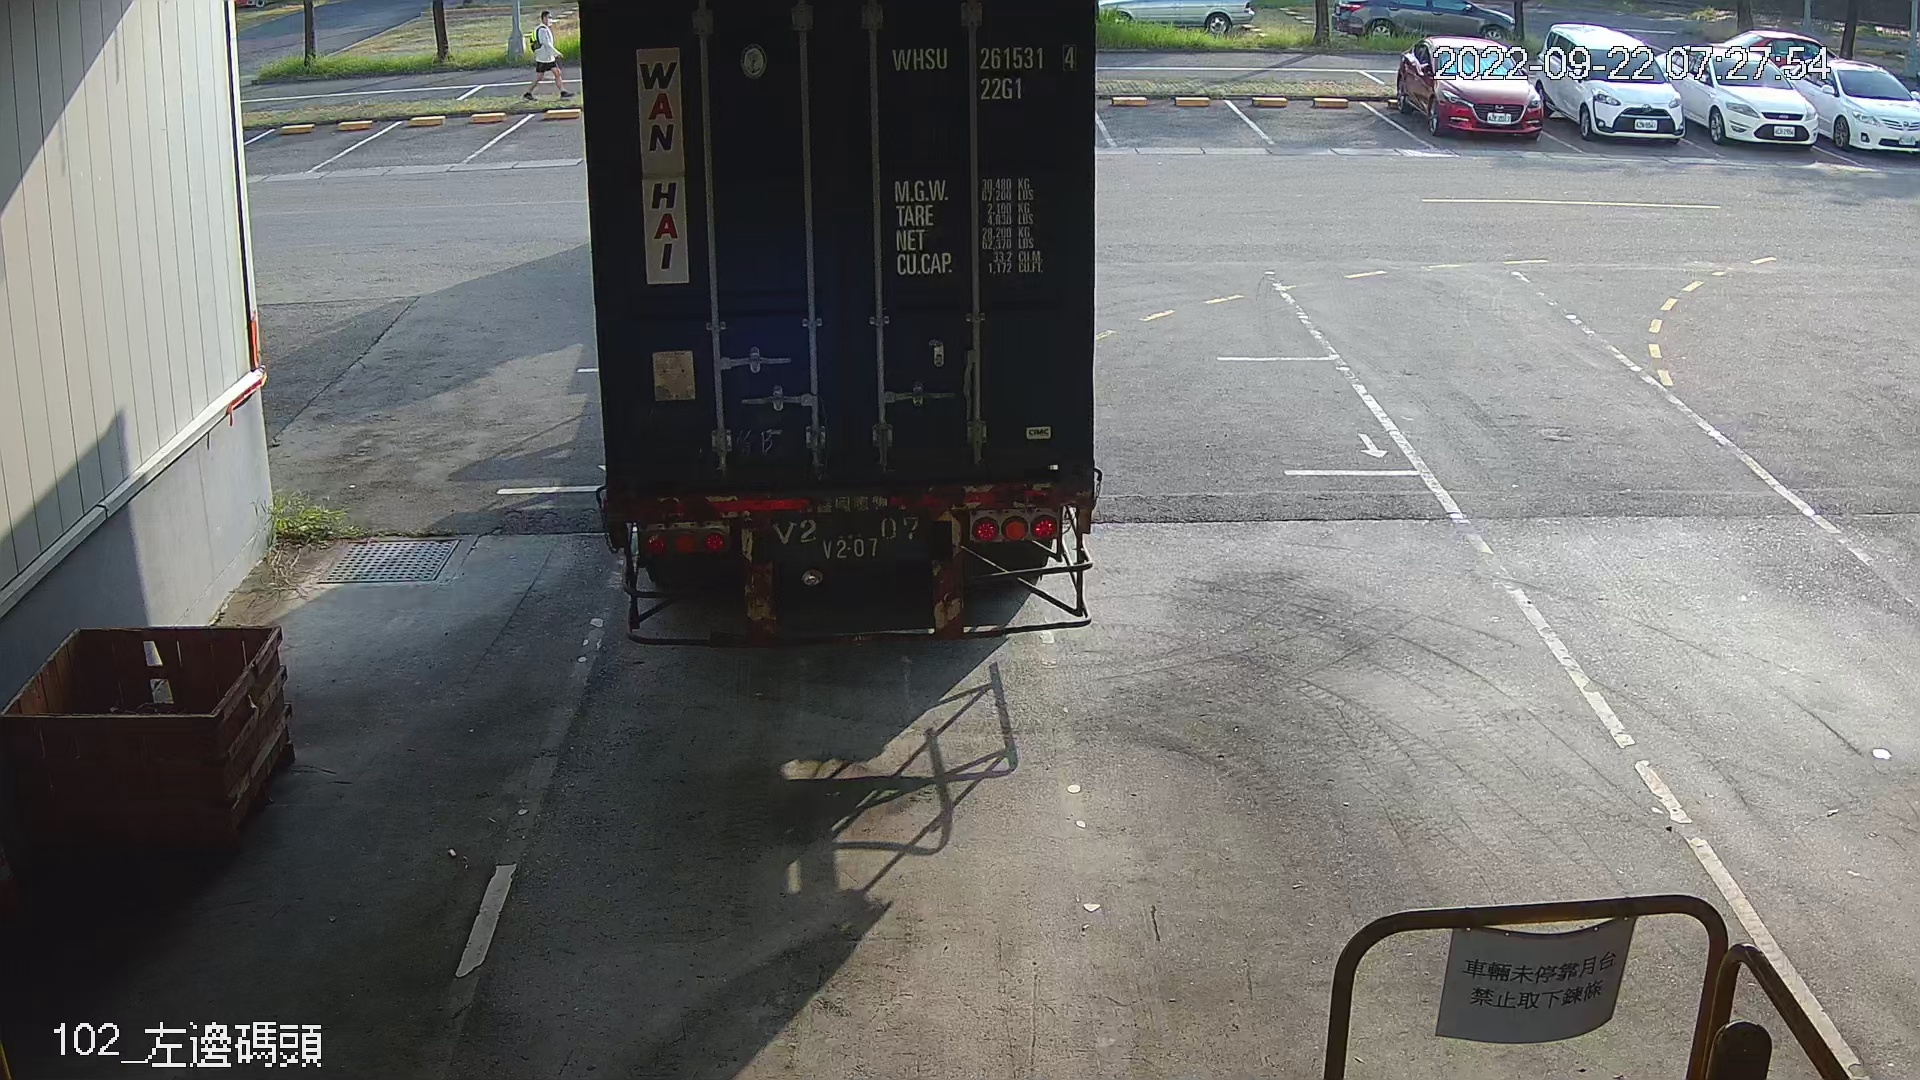container: (882, 38, 1084, 105)
